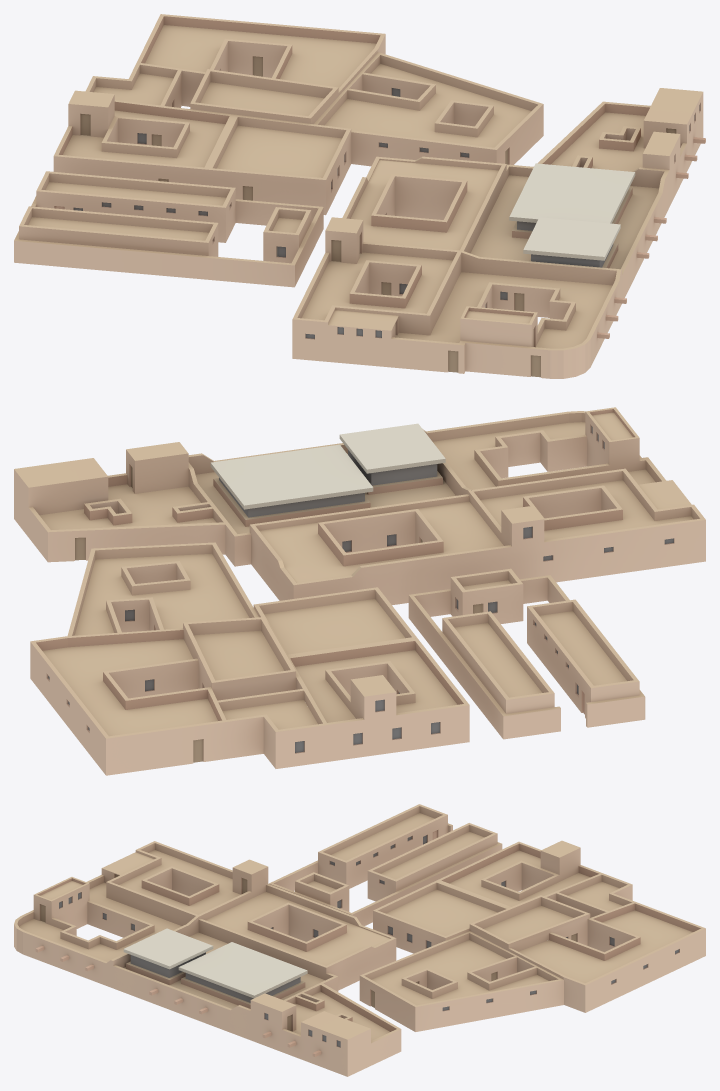
File: At-Turaif.glb
The picture shows the model from 3 angles, top to bottom: view 1: azimuth 30°, elevation 25°; view 2: azimuth 150°, elevation 25°; view 3: azimuth 270°, elevation 25°; orthographic projection. The views are drawn at different scales.
Visible parts, largest first — view 1: atturaifworldheritagesite70030076209992635, atturaifworldheritagesite70030076209992634, atturaifworldheritagesite70030076209992629, atturaifworldheritagesite70030076209992995, atturaifworldheritagesite70030076209992979, atturaifworldheritagesite70030076209992983, atturaifworldheritagesite70030076209992609, atturaifworldheritagesite70030076676985002, atturaifworldheritagesite70030076527609092, atturaifworldheritagesite70030076209992704, atturaifworldheritagesite70030076676985436, atturaifworldheritagesite70030076676985563 (+2 smaller); view 2: atturaifworldheritagesite70030076209992979, atturaifworldheritagesite70030076209992609, atturaifworldheritagesite70030076209992635, atturaifworldheritagesite70030076209992629, atturaifworldheritagesite70030076209992704, atturaifworldheritagesite70030076209992983, atturaifworldheritagesite70030076209992995, atturaifworldheritagesite70030076209992634, atturaifworldheritagesite70030076676985002, atturaifworldheritagesite70030076676985563, atturaifworldheritagesite70030076527609092, atturaifworldheritagesite70030076676983790 (+2 smaller); view 3: atturaifworldheritagesite70030076209992995, atturaifworldheritagesite70030076209992629, atturaifworldheritagesite70030076209992979, atturaifworldheritagesite70030076209992609, atturaifworldheritagesite70030076209992634, atturaifworldheritagesite70030076209992704, atturaifworldheritagesite70030076209992635, atturaifworldheritagesite70030076209992983, atturaifworldheritagesite70030076527609092, atturaifworldheritagesite70030076676985563, atturaifworldheritagesite70030076676983790, atturaifworldheritagesite70030076676985436 (+2 smaller).
Part boxes in pixels (<box>): atturaifworldheritagesite70030076209992635: <box>292,217,464,373</box>; atturaifworldheritagesite70030076209992634: <box>428,251,626,378</box>; atturaifworldheritagesite70030076209992629: <box>470,163,669,297</box>; atturaifworldheritagesite70030076209992995: <box>314,52,543,166</box>; atturaifworldheritagesite70030076209992979: <box>136,14,385,106</box>; atturaifworldheritagesite70030076209992983: <box>53,90,234,185</box>; atturaifworldheritagesite70030076209992609: <box>342,156,506,253</box>; atturaifworldheritagesite70030076676985002: <box>14,196,323,287</box>; atturaifworldheritagesite70030076527609092: <box>207,114,351,215</box>; atturaifworldheritagesite70030076209992704: <box>537,88,705,206</box>; atturaifworldheritagesite70030076676985436: <box>36,171,235,242</box>; atturaifworldheritagesite70030076676985563: <box>19,206,218,256</box>; atturaifworldheritagesite70030076209992979: <box>30,628,227,775</box>; atturaifworldheritagesite70030076209992609: <box>249,491,511,605</box>; atturaifworldheritagesite70030076209992635: <box>468,457,705,582</box>; atturaifworldheritagesite70030076209992629: <box>188,423,455,566</box>; atturaifworldheritagesite70030076209992704: <box>14,442,225,562</box>; atturaifworldheritagesite70030076209992983: <box>288,638,469,762</box>; atturaifworldheritagesite70030076209992995: <box>67,542,258,636</box>; atturaifworldheritagesite70030076209992634: <box>423,407,655,495</box>; atturaifworldheritagesite70030076676985002: <box>408,568,645,739</box>; atturaifworldheritagesite70030076676985563: <box>527,599,639,718</box>; atturaifworldheritagesite70030076527609092: <box>253,587,417,656</box>; atturaifworldheritagesite70030076676983790: <box>183,617,295,700</box>; atturaifworldheritagesite70030076209992995: <box>359,931,563,1031</box>; atturaifworldheritagesite70030076209992629: <box>113,928,338,1040</box>; atturaifworldheritagesite70030076209992979: <box>508,901,705,1012</box>; atturaifworldheritagesite70030076209992609: <box>198,884,396,990</box>; atturaifworldheritagesite70030076209992634: <box>14,877,198,988</box>; atturaifworldheritagesite70030076209992704: <box>250,983,401,1076</box>; atturaifworldheritagesite70030076209992635: <box>86,841,268,925</box>; atturaifworldheritagesite70030076209992983: <box>437,840,603,907</box>; atturaifworldheritagesite70030076527609092: <box>373,880,508,953</box>; atturaifworldheritagesite70030076676985563: <box>318,804,447,888</box>; atturaifworldheritagesite70030076676983790: <box>469,895,590,951</box>; atturaifworldheritagesite70030076676985436: <box>367,823,497,901</box>.
Size of the model in its own units: 61.42 by 5.6 by 72.64.
Materials: 13 (13 with a texture image).
